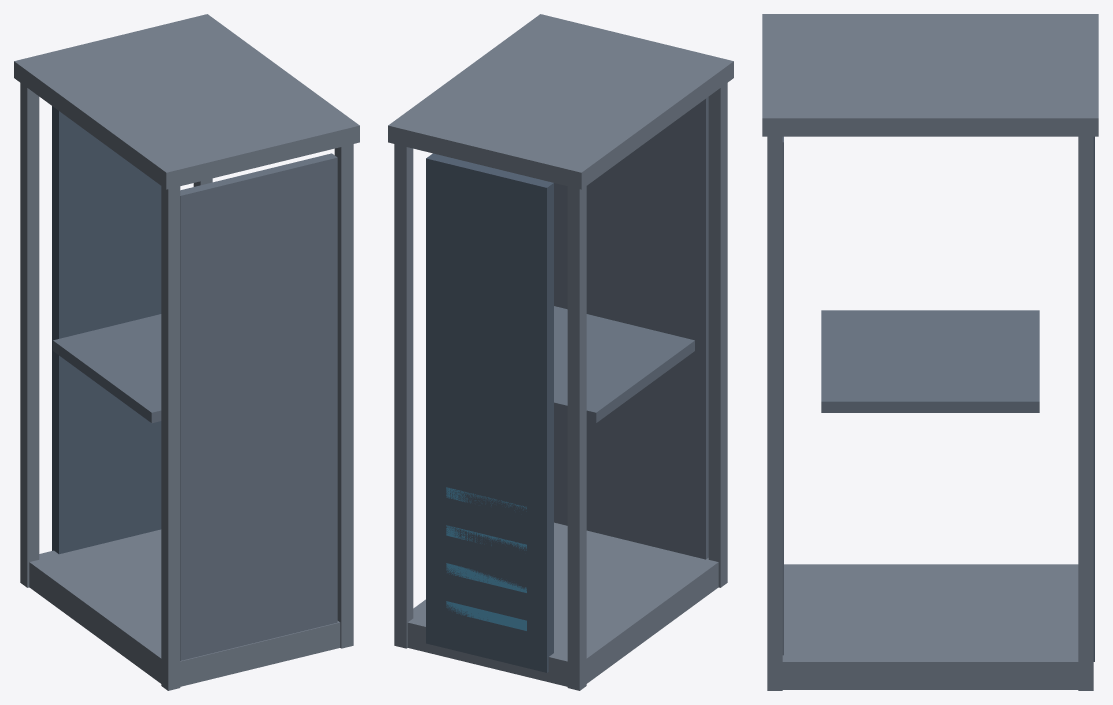
The model's file is ess-cabinet.glb.
3 views of the same model, side by side, from view 1: azimuth 30°, elevation 25°; view 2: azimuth 150°, elevation 25°; view 3: azimuth 270°, elevation 25° (orthographic). The views are drawn at different scales.
Parts seen in each view (by area): view 1: GEO-back, GEO-door1, GEO-top, GEO-base, GEO-post_-1_-1, GEO-post_-1_1, GEO-post_1_-1, GEO-side; view 2: GEO-door1, GEO-back, GEO-top, GEO-base, GEO-post_-1_1, GEO-post_1_1, GEO-post_-1_-1, GEO-side, GEO-louver0, GEO-louver1, GEO-louver2; view 3: GEO-top, GEO-base, GEO-side, GEO-post_1_-1, GEO-post_1_1, GEO-door1, GEO-back.
Part boxes in pixels (x1,y1,x2,y2): GEO-back: (180,153,337,660); GEO-door1: (52,106,161,554); GEO-top: (14,14,359,189); GEO-base: (29,529,340,686); GEO-post_-1_-1: (161,186,180,690); GEO-post_-1_1: (20,83,39,587); GEO-post_1_-1: (334,144,353,648); GEO-side: (53,314,161,423); GEO-door1: (426,153,553,672); GEO-back: (554,97,708,559); GEO-top: (388,14,733,189); GEO-base: (407,522,718,686); GEO-post_-1_1: (567,186,586,690); GEO-post_1_1: (394,144,413,648); GEO-post_-1_-1: (708,83,727,587); GEO-side: (554,306,694,423); GEO-louver0: (446,601,526,630); GEO-louver1: (446,563,526,592); GEO-louver2: (446,525,526,550); GEO-top: (762,14,1098,136); GEO-base: (782,564,1078,689); GEO-side: (821,310,1039,412); GEO-post_1_-1: (767,136,782,690); GEO-post_1_1: (1078,136,1093,690); GEO-door1: (1093,136,1094,661); GEO-back: (782,136,783,655).
Bounding box in the file's own units: 0.96 × 2.5 × 1.31.
